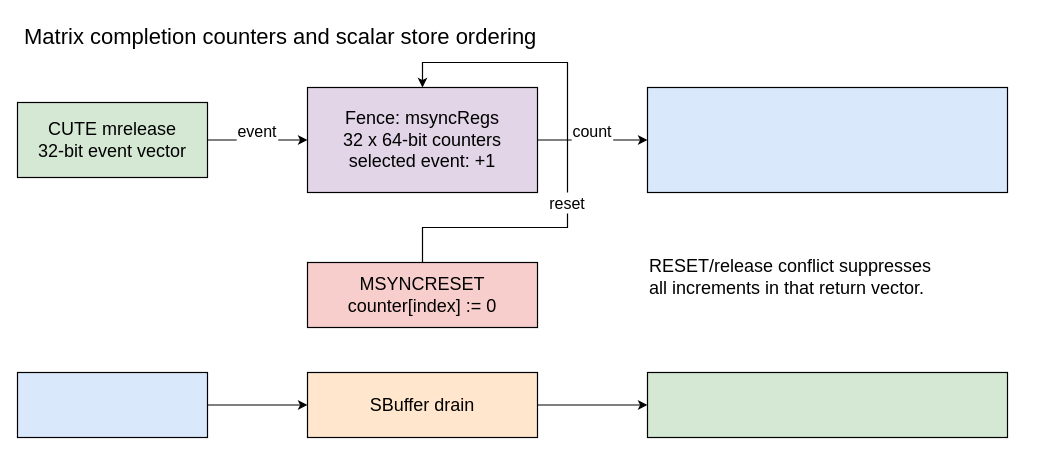
Image size: 1046x455. Some labels were removed from this diagram. Each missing label, with the centre of its shape:
"Complete when sbEmpty independent of CUTE busy" goes at point 827,404.
"MACQUIRE wait until counter[index] >= rs1 then complete" goes at point 827,139.
"MFENCE" goes at point 112,404.
